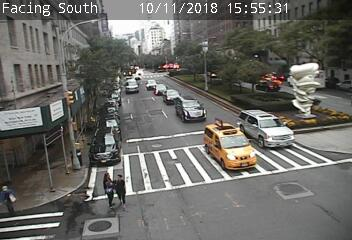car: (204, 123, 257, 171), (238, 110, 294, 148), (176, 96, 206, 121), (163, 89, 182, 106), (145, 79, 158, 91), (154, 84, 168, 95)
